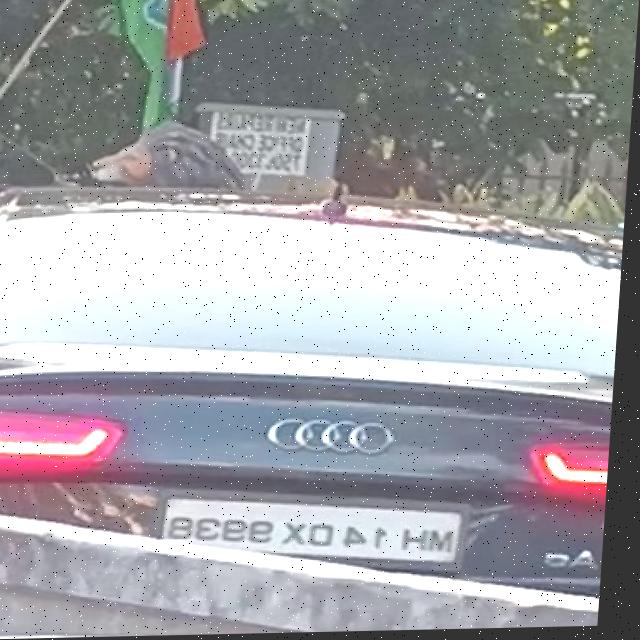plate: (153, 484, 478, 585)
